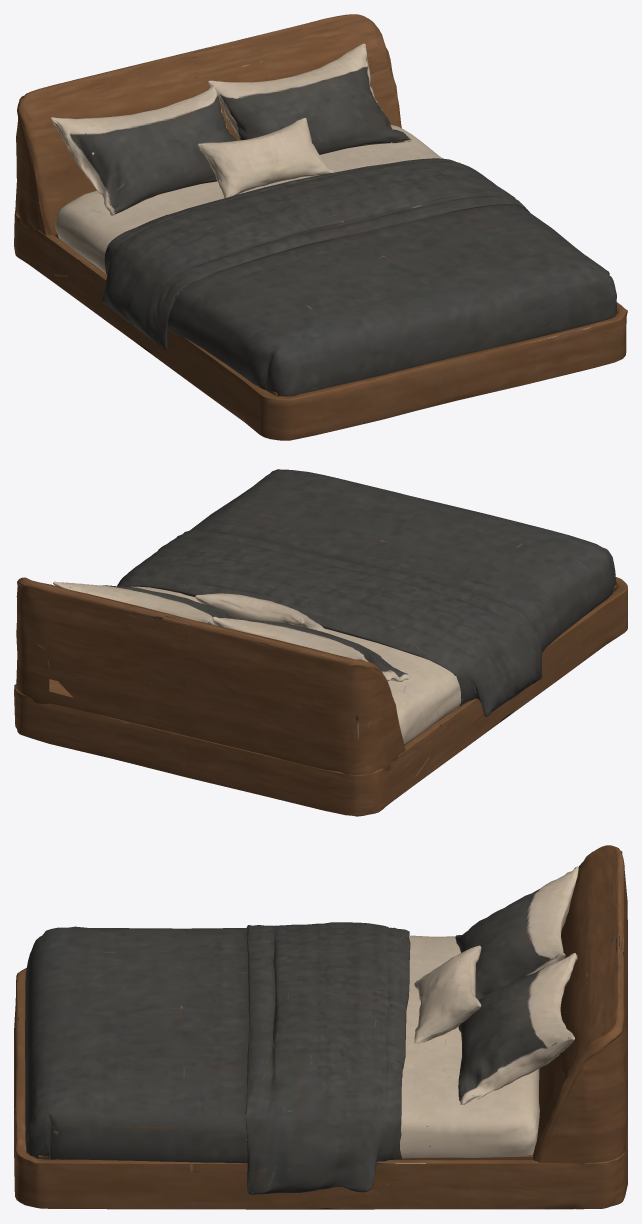
Rendered from desktop.glb.
3 renders of one model, top to bottom at view 1: azimuth 30°, elevation 25°; view 2: azimuth 150°, elevation 25°; view 3: azimuth 270°, elevation 25°, orthographic. The views are drawn at different scales.
Parts seen in each view (by area): view 1: bed; view 2: bed; view 3: bed.
Boxes of the visible parts, x1,y1,x2,y2 form: bed: [14, 14, 627, 440]; bed: [14, 469, 627, 816]; bed: [14, 845, 627, 1209].
Size of the model in its own units: 1.52 by 0.5696 by 1.82.
1 material, 1 textured.
